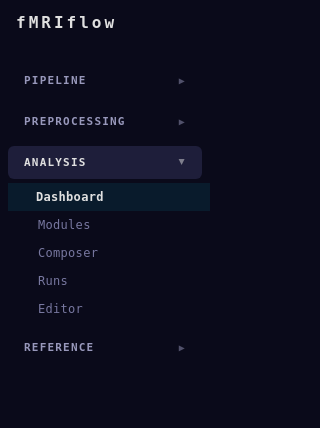
<NavBar /> › clicking a group toggles its visibility
Expected: the text "Workflows" is not shown
Click the text "Pipeline": point(55, 80) [24,74,87,87]
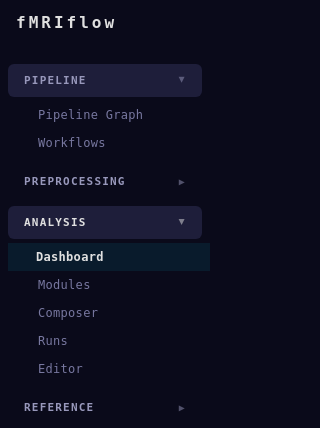
Now the link "Workflows" is shown, box [38,136,106,150]
